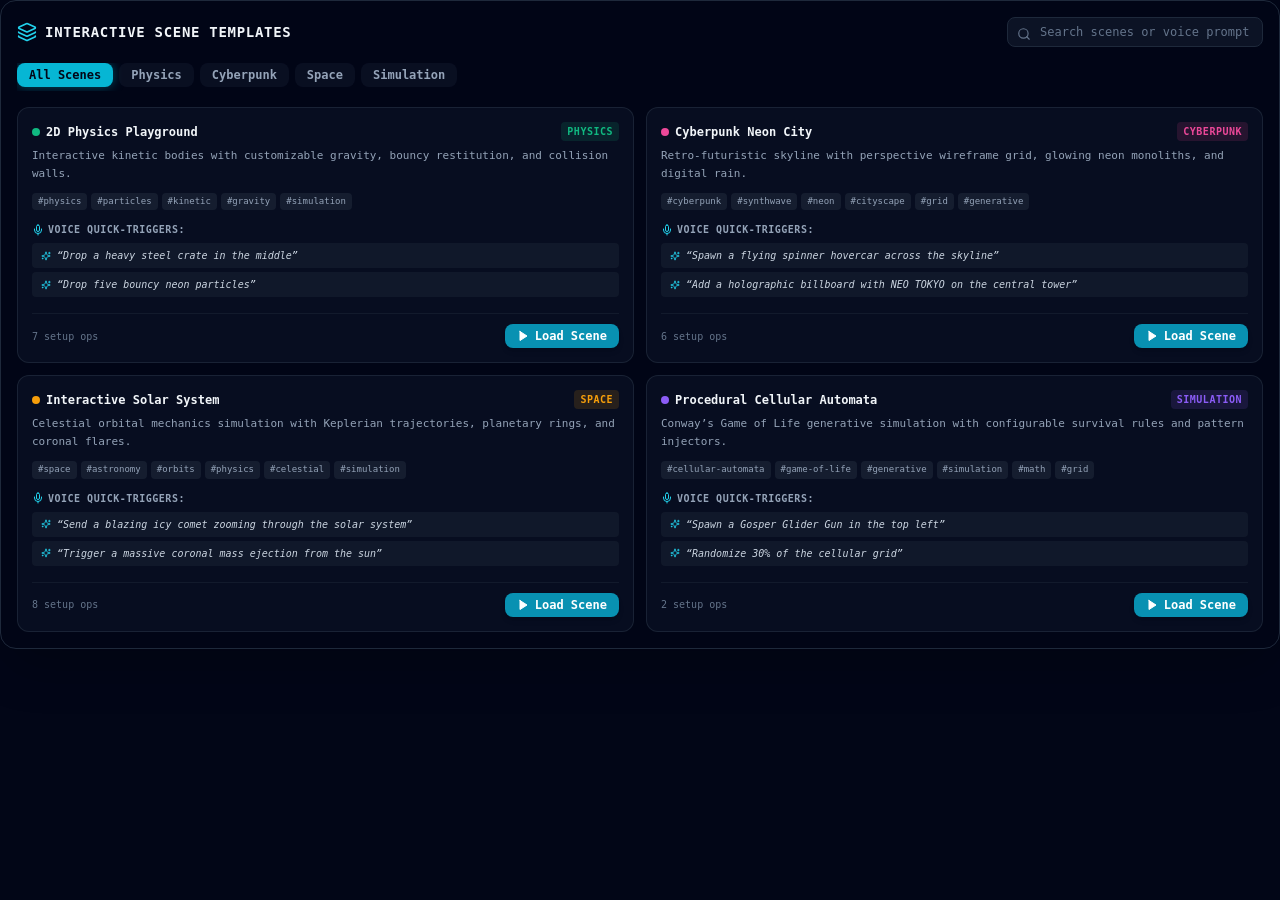
Scenario: TemplateSelector Component › should filter templates based on search input
Type "glider" into the field with test id "template-search-input" at {"x": 1135, "y": 32}, box [1007, 17, 1263, 47]
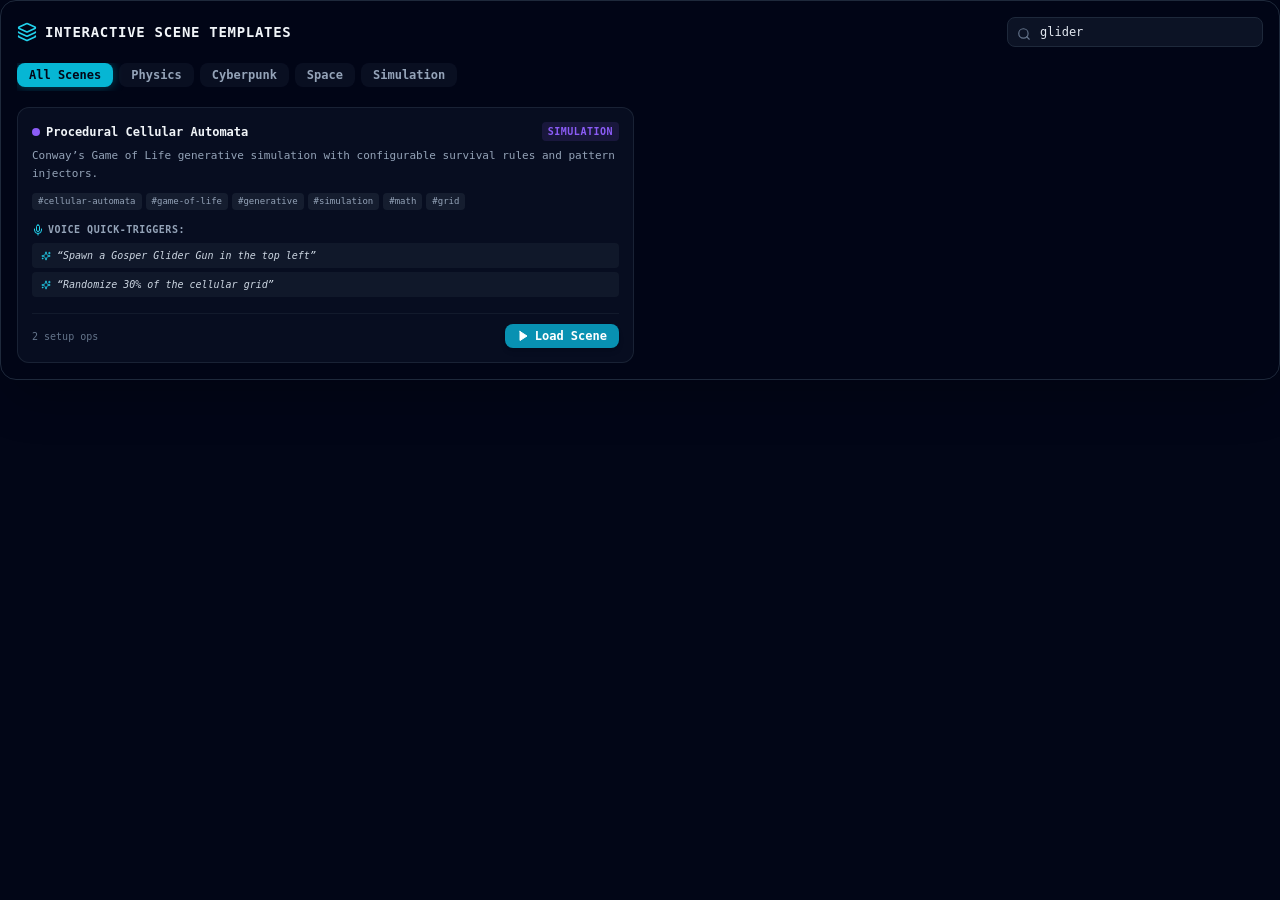
Check: the element with test id "template-card-cellular_automata" is shown, box [17, 107, 634, 363]
Check: the element with test id "template-card-cyberpunk_city" is gone
